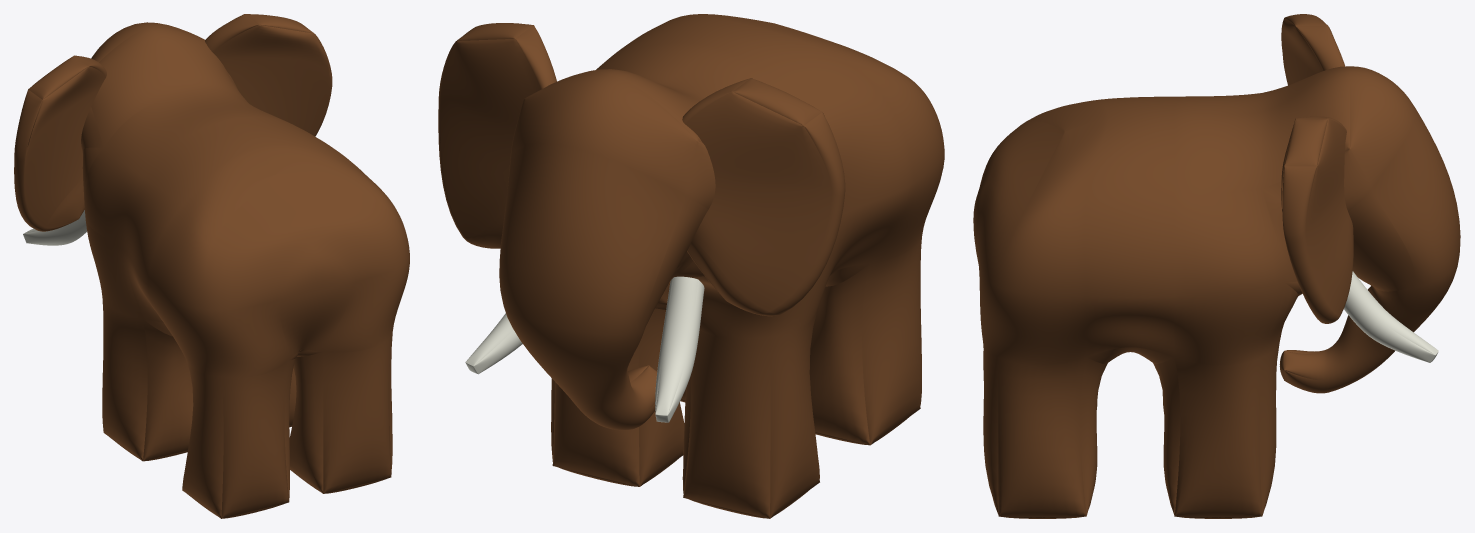
Rendered from gumbo.obj.
The picture shows the model from 3 angles, left to right: view 1: azimuth 30°, elevation 25°; view 2: azimuth 150°, elevation 25°; view 3: azimuth 270°, elevation 25°; orthographic projection. The views are drawn at different scales.
Visible parts, largest first — view 1: body, tusks; view 2: body, tusks; view 3: body, tusks.
Part boxes in pixels (box(x1,y1,x2,y2)): body: box(14, 14, 409, 518); tusks: box(23, 210, 87, 245); body: box(438, 14, 944, 518); tusks: box(465, 276, 704, 422); body: box(973, 14, 1460, 518); tusks: box(1344, 271, 1438, 362).
Size of the model in its own units: 0.901 by 1 by 1.08.
